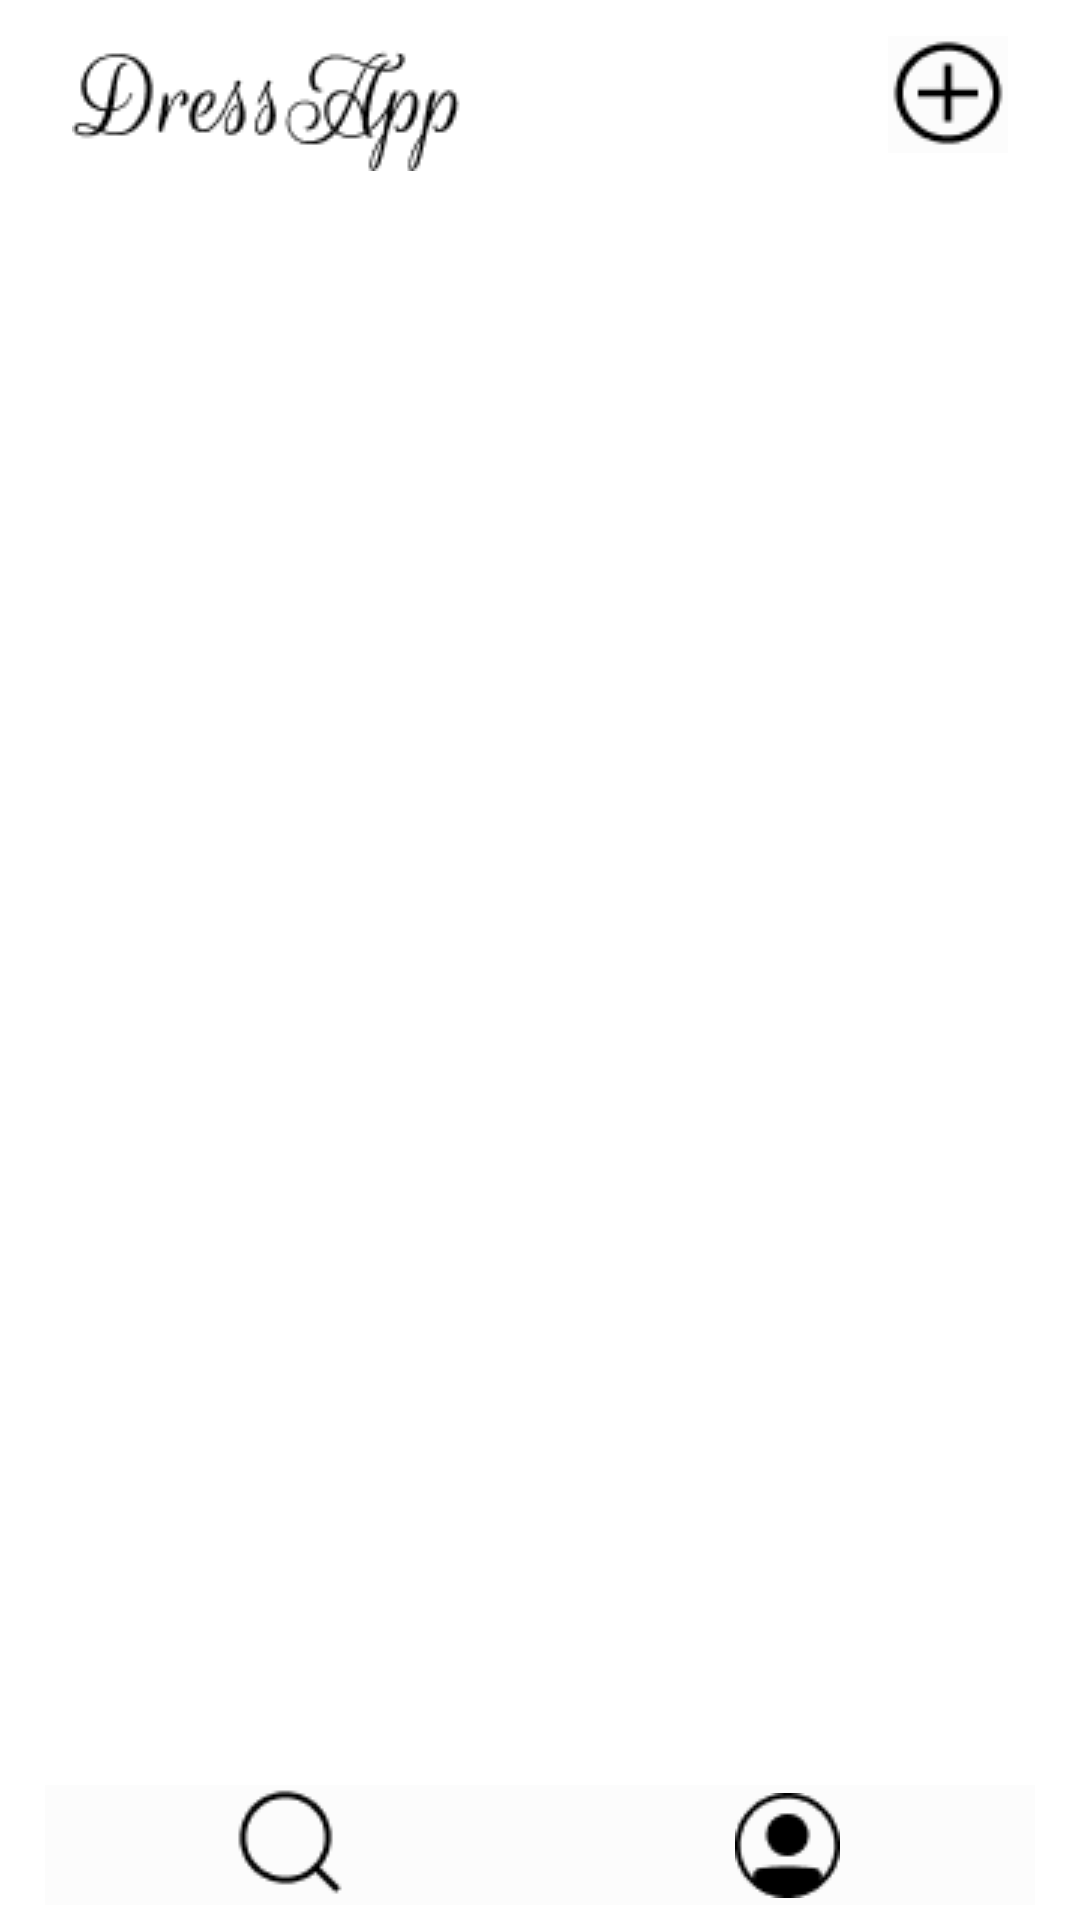

Icon bounding boxes for this 1080*1920 phone screenshot, format (x1, y1, x2, y2):
add product: (893, 41, 1003, 145)
profile: (735, 1793, 840, 1898)
search: (238, 1790, 342, 1894)
